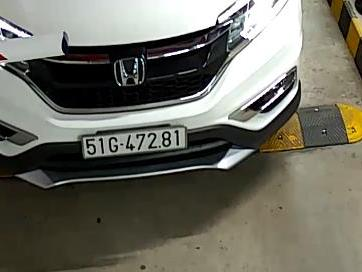number: (81, 128, 187, 157)
